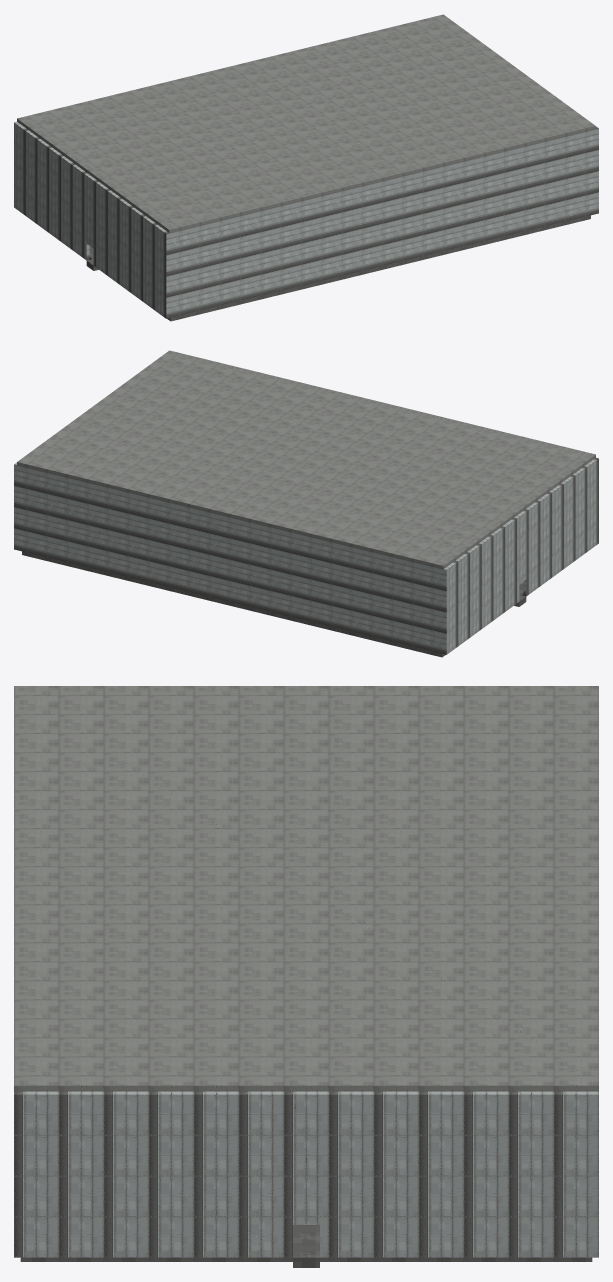
File: shell_yard_gantry.glb
3 views of the same model, one above another, from view 1: azimuth 30°, elevation 25°; view 2: azimuth 150°, elevation 25°; view 3: azimuth 270°, elevation 25° (orthographic). The views are drawn at different scales.
Parts seen in each view (by area): view 1: yd; view 2: yd; view 3: yd.
Boxes of the visible parts, bbox=[...] form: yd: bbox=[14, 14, 598, 321]; yd: bbox=[14, 350, 598, 657]; yd: bbox=[14, 686, 598, 1267].
Size of what is drawn, in the model's own units: 85.2 by 17.6 by 52.
45 materials, 45 textured.
